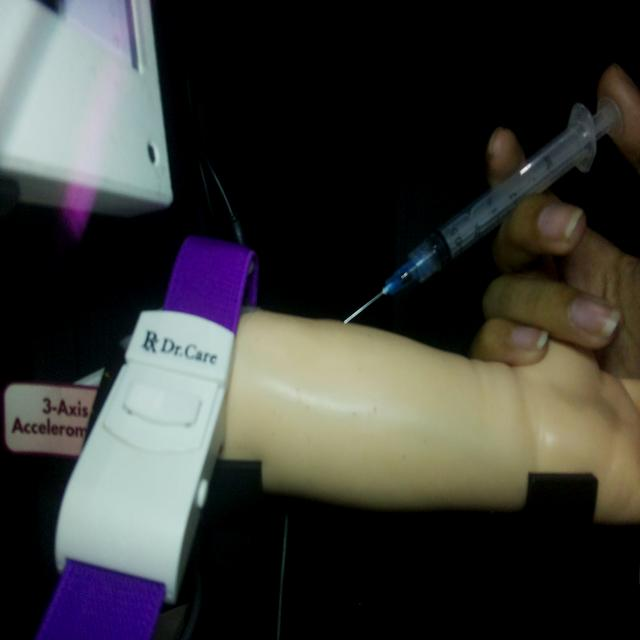29 degrees: (342, 93, 622, 326)
